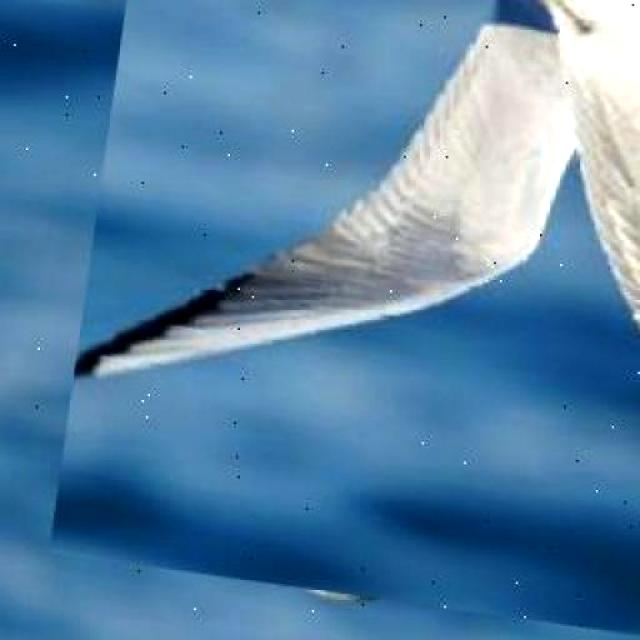airplane: (49, 0, 640, 640)
